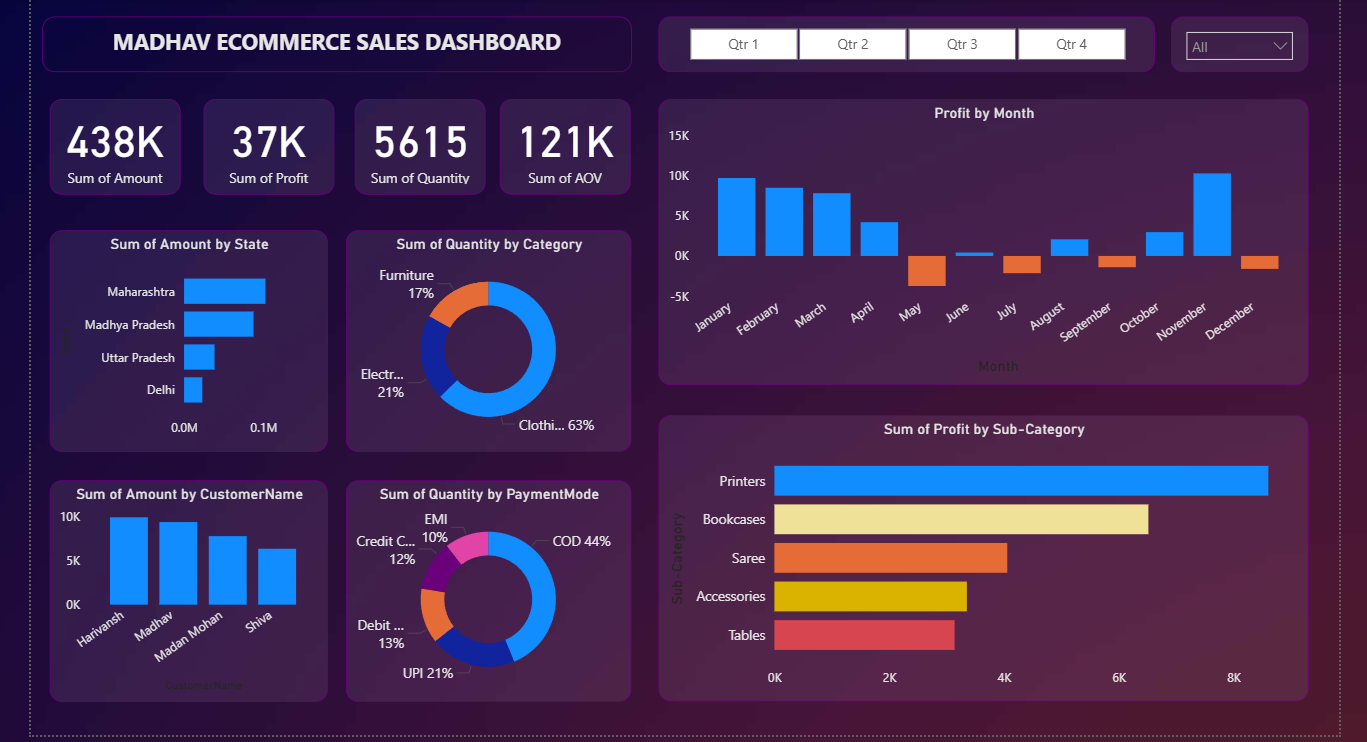

Layout of this report page (visuals, bound fields, positions):
{"tool":"powerbi","page":{"name":"Page 1","canvas":[1280,720],"ordinal":0},"visuals":[{"type":"columnChart","title":" Profit by Month","fields":{"Y":["Details.Profit"],"Category":["Orders.Order Date.Variation.Date Hierarchy.Month"]},"box":[613.7,97.3,636.1,280.1],"z":0},{"type":"textbox","box":[10.7,16.5,576.8,54.5],"z":1000},{"type":"barChart","fields":{"Category":["Details.Sub-Category"],"Y":["Details.Profit"]},"box":[613.7,407.5,636.1,280.1],"z":2000},{"type":"donutChart","fields":{"Category":["Details.Category"],"Y":["Details.Quantity"]},"box":[308.3,225.7,279.1,216.9],"z":3000},{"type":"donutChart","fields":{"Y":["Details.Quantity"],"Category":["Details.PaymentMode"]},"box":[308.3,470.8,279.1,216.9],"z":4000},{"type":"card","fields":{"Values":["Details.Amount"]},"box":[18.5,97.3,128.4,93.4],"z":5000},{"type":"card","fields":{"Values":["Details.Quantity"]},"box":[316.1,97.3,128.4,93.4],"z":6000},{"type":"card","fields":{"Values":["Details.Profit"]},"box":[169.2,97.3,128.4,93.4],"z":7000},{"type":"card","fields":{"Values":["Details.AOV"]},"box":[459.1,97.3,128.4,93.4],"z":8000},{"type":"barChart","fields":{"Category":["Orders.State"],"Y":["Details.Amount"]},"box":[18.5,225.7,272.3,216.9],"z":9000},{"type":"columnChart","fields":{"Category":["Orders.CustomerName"],"Y":["Details.Amount"]},"box":[18.5,470.8,272.3,216.9],"z":10000},{"type":"slicer","fields":{"Values":["Orders.Order Date.Variation.Date Hierarchy.Quarter"]},"box":[613.7,16.5,485.3,54.5],"z":11000},{"type":"slicer","fields":{"Values":["Orders.State"]},"box":[1115.6,16.5,134.2,54.5],"z":12000}]}

Visuals, with their boxes on the page's 1280x720 design canvas (x1, y1, x2, y2). These are canvas units, not pixel positions in the 1367x742 screenshot, which may show the page scaled, cropped or inside an application window:
" Profit by Month" columnChart: select_region(614, 97, 1250, 377)
textbox: select_region(11, 16, 588, 71)
barChart - Details.Sub-Category x Details.Profit: select_region(614, 408, 1250, 688)
donutChart - Details.Category x Details.Quantity: select_region(308, 226, 587, 443)
donutChart - Details.Quantity x Details.PaymentMode: select_region(308, 471, 587, 688)
card - Details.Amount: select_region(18, 97, 147, 191)
card - Details.Quantity: select_region(316, 97, 444, 191)
card - Details.Profit: select_region(169, 97, 298, 191)
card - Details.AOV: select_region(459, 97, 588, 191)
barChart - Orders.State x Details.Amount: select_region(18, 226, 291, 443)
columnChart - Orders.CustomerName x Details.Amount: select_region(18, 471, 291, 688)
slicer - Orders.Order Date.Variation.Date Hierarchy.Quarter: select_region(614, 16, 1099, 71)
slicer - Orders.State: select_region(1116, 16, 1250, 71)
